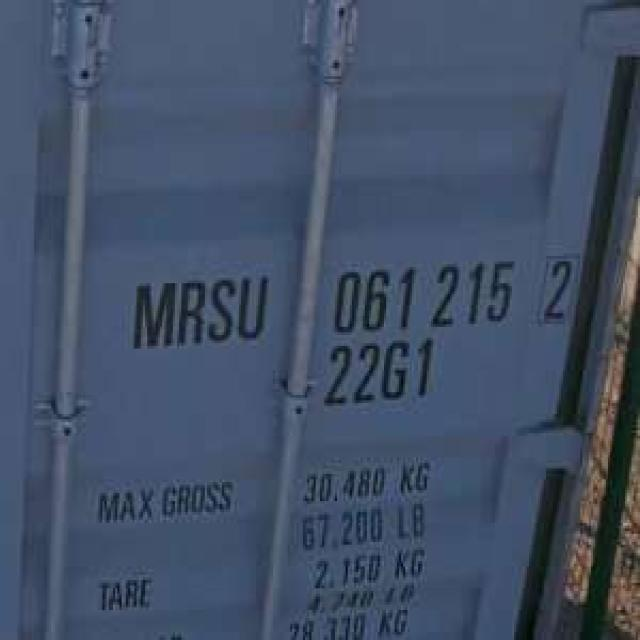dv: (535, 244, 580, 333)
owner: (120, 264, 273, 356)
serial: (326, 253, 520, 337)
size: (320, 338, 443, 421)
